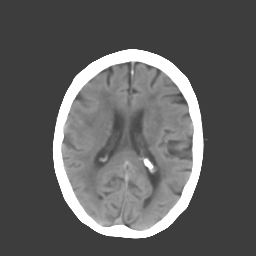ischemic: (88, 99, 112, 136)
